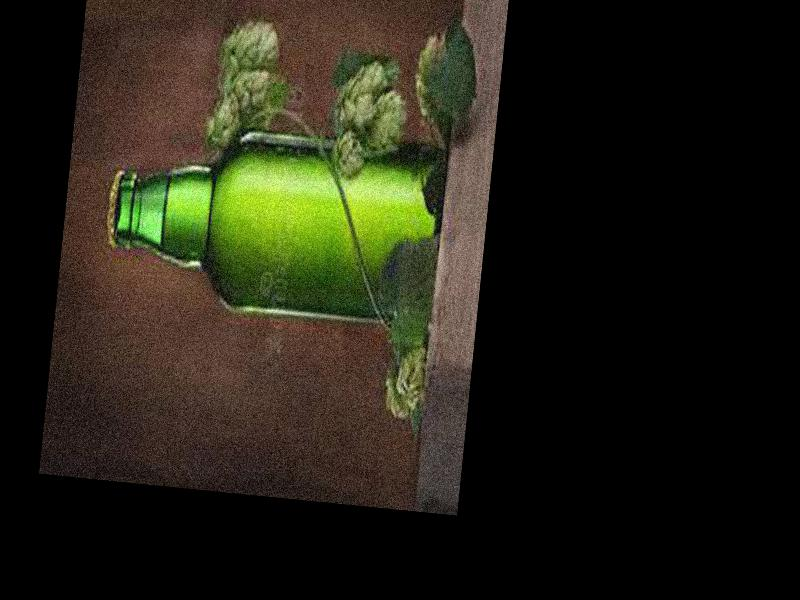Beer: (98, 121, 453, 332)
